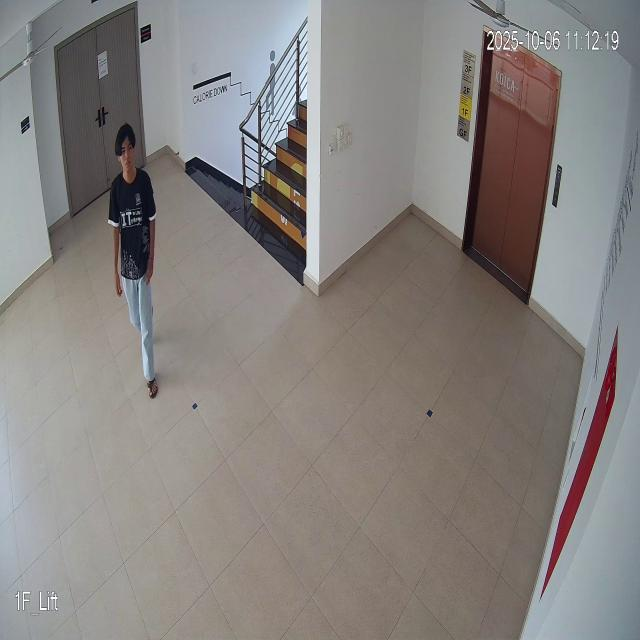face: (110, 119, 144, 175)
